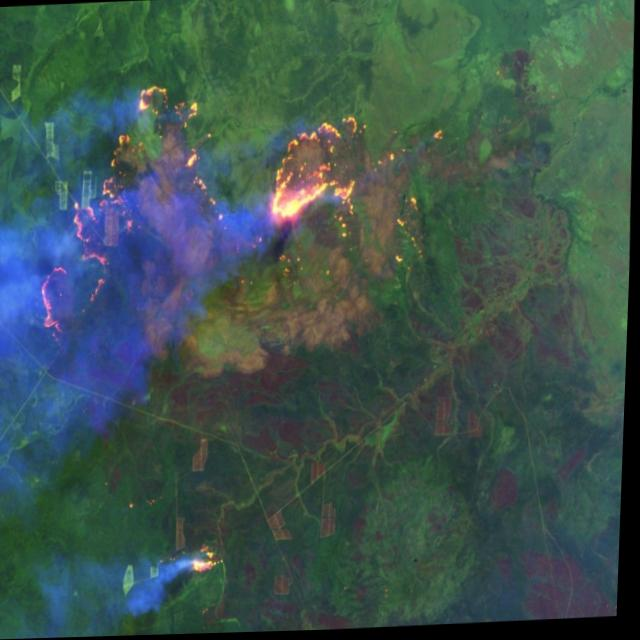fire: (28, 62, 460, 354), (184, 524, 235, 580)
